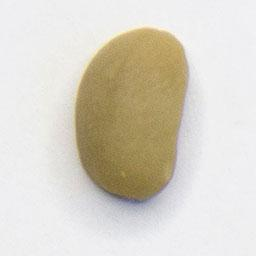premium: (72, 25, 192, 204)
